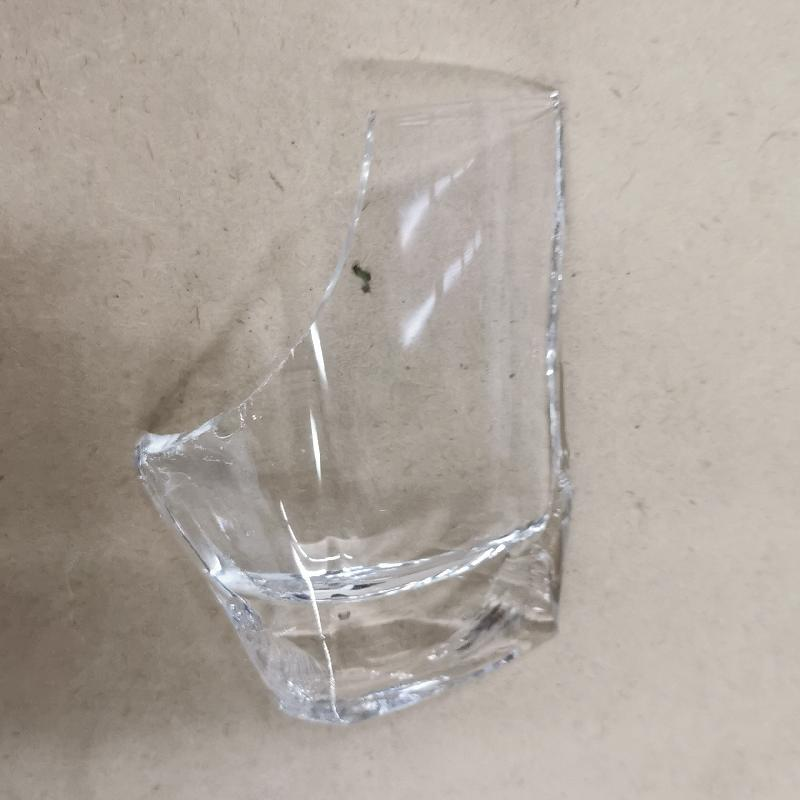glass: (128, 92, 573, 726)
